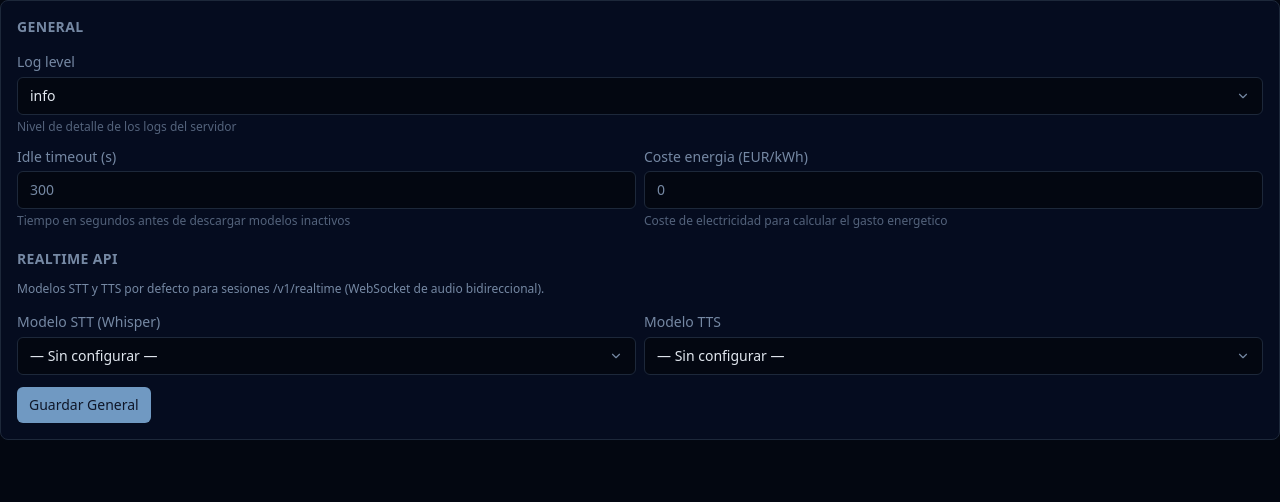
Test: GeneralSettings realtime STT/TTS model lists › merges router profiles into the STT/TTS dropdowns, badged with ' · router' (routers have no base_model_id so api.models.list() never returns them)
What coordinates should you click on to do the following:
click the dropdown labelled "— Sin configurar —" below "Modelo STT (Whisper)"
I would click on:
 (94, 356)
Its box is [17,337,636,375].
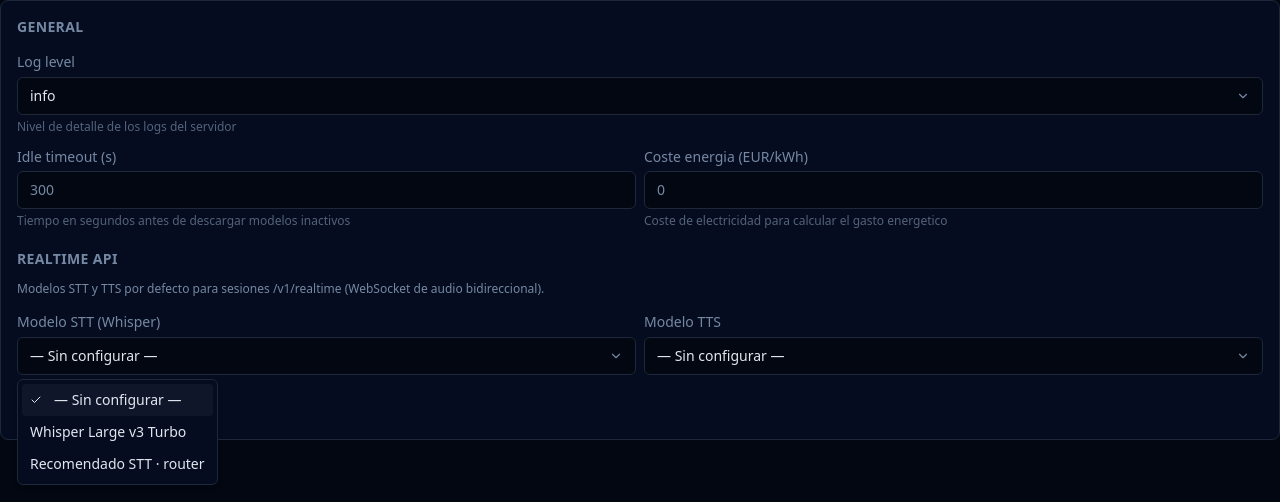
Expected: the text "Recomendado TTS · router" is not shown
Expected: the text "Recomendado STT · router" is shown, [30,454,204,474]
What coordinates should you click on to do the following:
click the dropdown labelled "— Sin configurar —" below "Modelo TTS"
I would click on:
 (721, 356)
Its box is [644,337,1263,375].
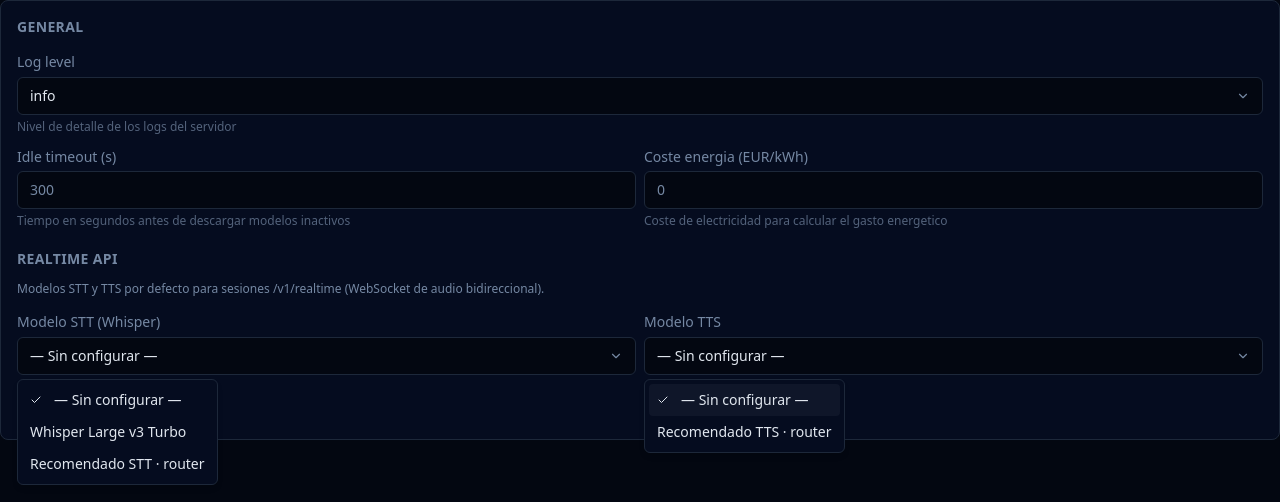
Expected: the text "Recomendado TTS · router" is shown, [657,422,832,442]
